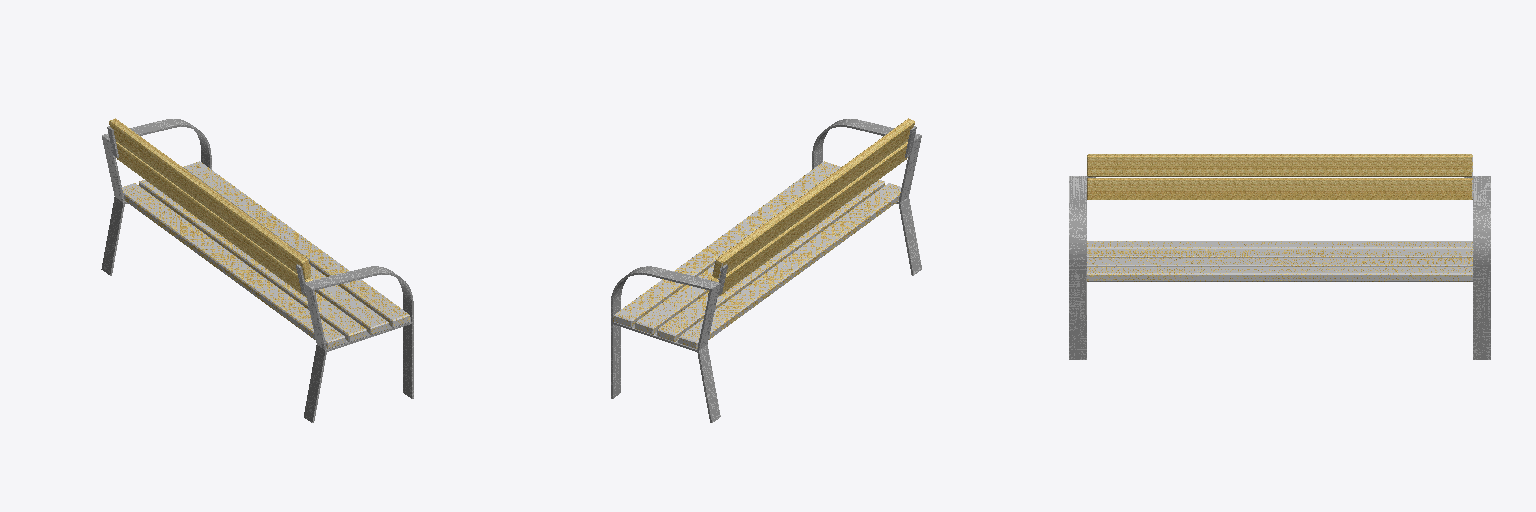
3 renders of one model, left to right at view 1: azimuth 30°, elevation 25°; view 2: azimuth 150°, elevation 25°; view 3: azimuth 270°, elevation 25°, orthographic.
Visible parts, largest first — view 1: mesh3.005_mesh3-geometry, mesh4.003_mesh4-geometry, mesh3.008_mesh3-geometry, mesh1.003_mesh1-geometry, mesh4.004_mesh4-geometry, mesh3.006_mesh3-geometry, mesh1.004_mesh1-geometry, mesh3.007_mesh3-geometry; view 2: mesh3.005_mesh3-geometry, mesh4.003_mesh4-geometry, mesh3.008_mesh3-geometry, mesh1.004_mesh1-geometry, mesh4.004_mesh4-geometry, mesh3.006_mesh3-geometry, mesh1.003_mesh1-geometry, mesh3.007_mesh3-geometry; view 3: mesh4.003_mesh4-geometry, mesh4.004_mesh4-geometry, mesh3.008_mesh3-geometry, mesh3.007_mesh3-geometry, mesh3.006_mesh3-geometry, mesh1.004_mesh1-geometry, mesh1.003_mesh1-geometry, mesh3.005_mesh3-geometry.
Boxes of the visible parts, box(x1,y1,x2,y2) form: mesh3.005_mesh3-geometry: box(122, 183, 345, 348); mesh4.003_mesh4-geometry: box(109, 118, 311, 279); mesh3.008_mesh3-geometry: box(183, 161, 410, 327); mesh1.003_mesh1-geometry: box(304, 266, 413, 422); mesh4.004_mesh4-geometry: box(116, 142, 315, 297); mesh3.006_mesh3-geometry: box(139, 180, 366, 341); mesh1.004_mesh1-geometry: box(101, 119, 211, 275); mesh3.007_mesh3-geometry: box(309, 264, 388, 334); mesh3.005_mesh3-geometry: box(678, 183, 901, 348); mesh4.003_mesh4-geometry: box(712, 118, 914, 279); mesh3.008_mesh3-geometry: box(613, 161, 840, 327); mesh1.004_mesh1-geometry: box(611, 266, 720, 422); mesh4.004_mesh4-geometry: box(708, 142, 907, 296); mesh3.006_mesh3-geometry: box(657, 180, 884, 341); mesh1.003_mesh1-geometry: box(812, 119, 921, 275); mesh3.007_mesh3-geometry: box(635, 264, 714, 334); mesh4.003_mesh4-geometry: box(1087, 154, 1472, 176); mesh4.004_mesh4-geometry: box(1087, 178, 1472, 199); mesh3.008_mesh3-geometry: box(1087, 267, 1472, 281); mesh3.007_mesh3-geometry: box(1087, 258, 1472, 266); mesh3.006_mesh3-geometry: box(1087, 249, 1472, 257); mesh1.004_mesh1-geometry: box(1473, 176, 1490, 359); mesh1.003_mesh1-geometry: box(1069, 176, 1086, 359); mesh3.005_mesh3-geometry: box(1087, 241, 1472, 248).
Size of the model in its own units: 0.257 by 0.3676 by 0.8938.
Materials: 4 (2 with a texture image).